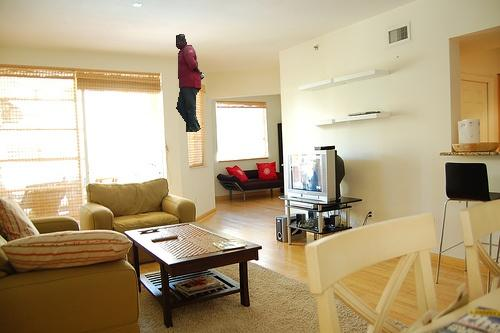tampered: (177, 35, 204, 132)
